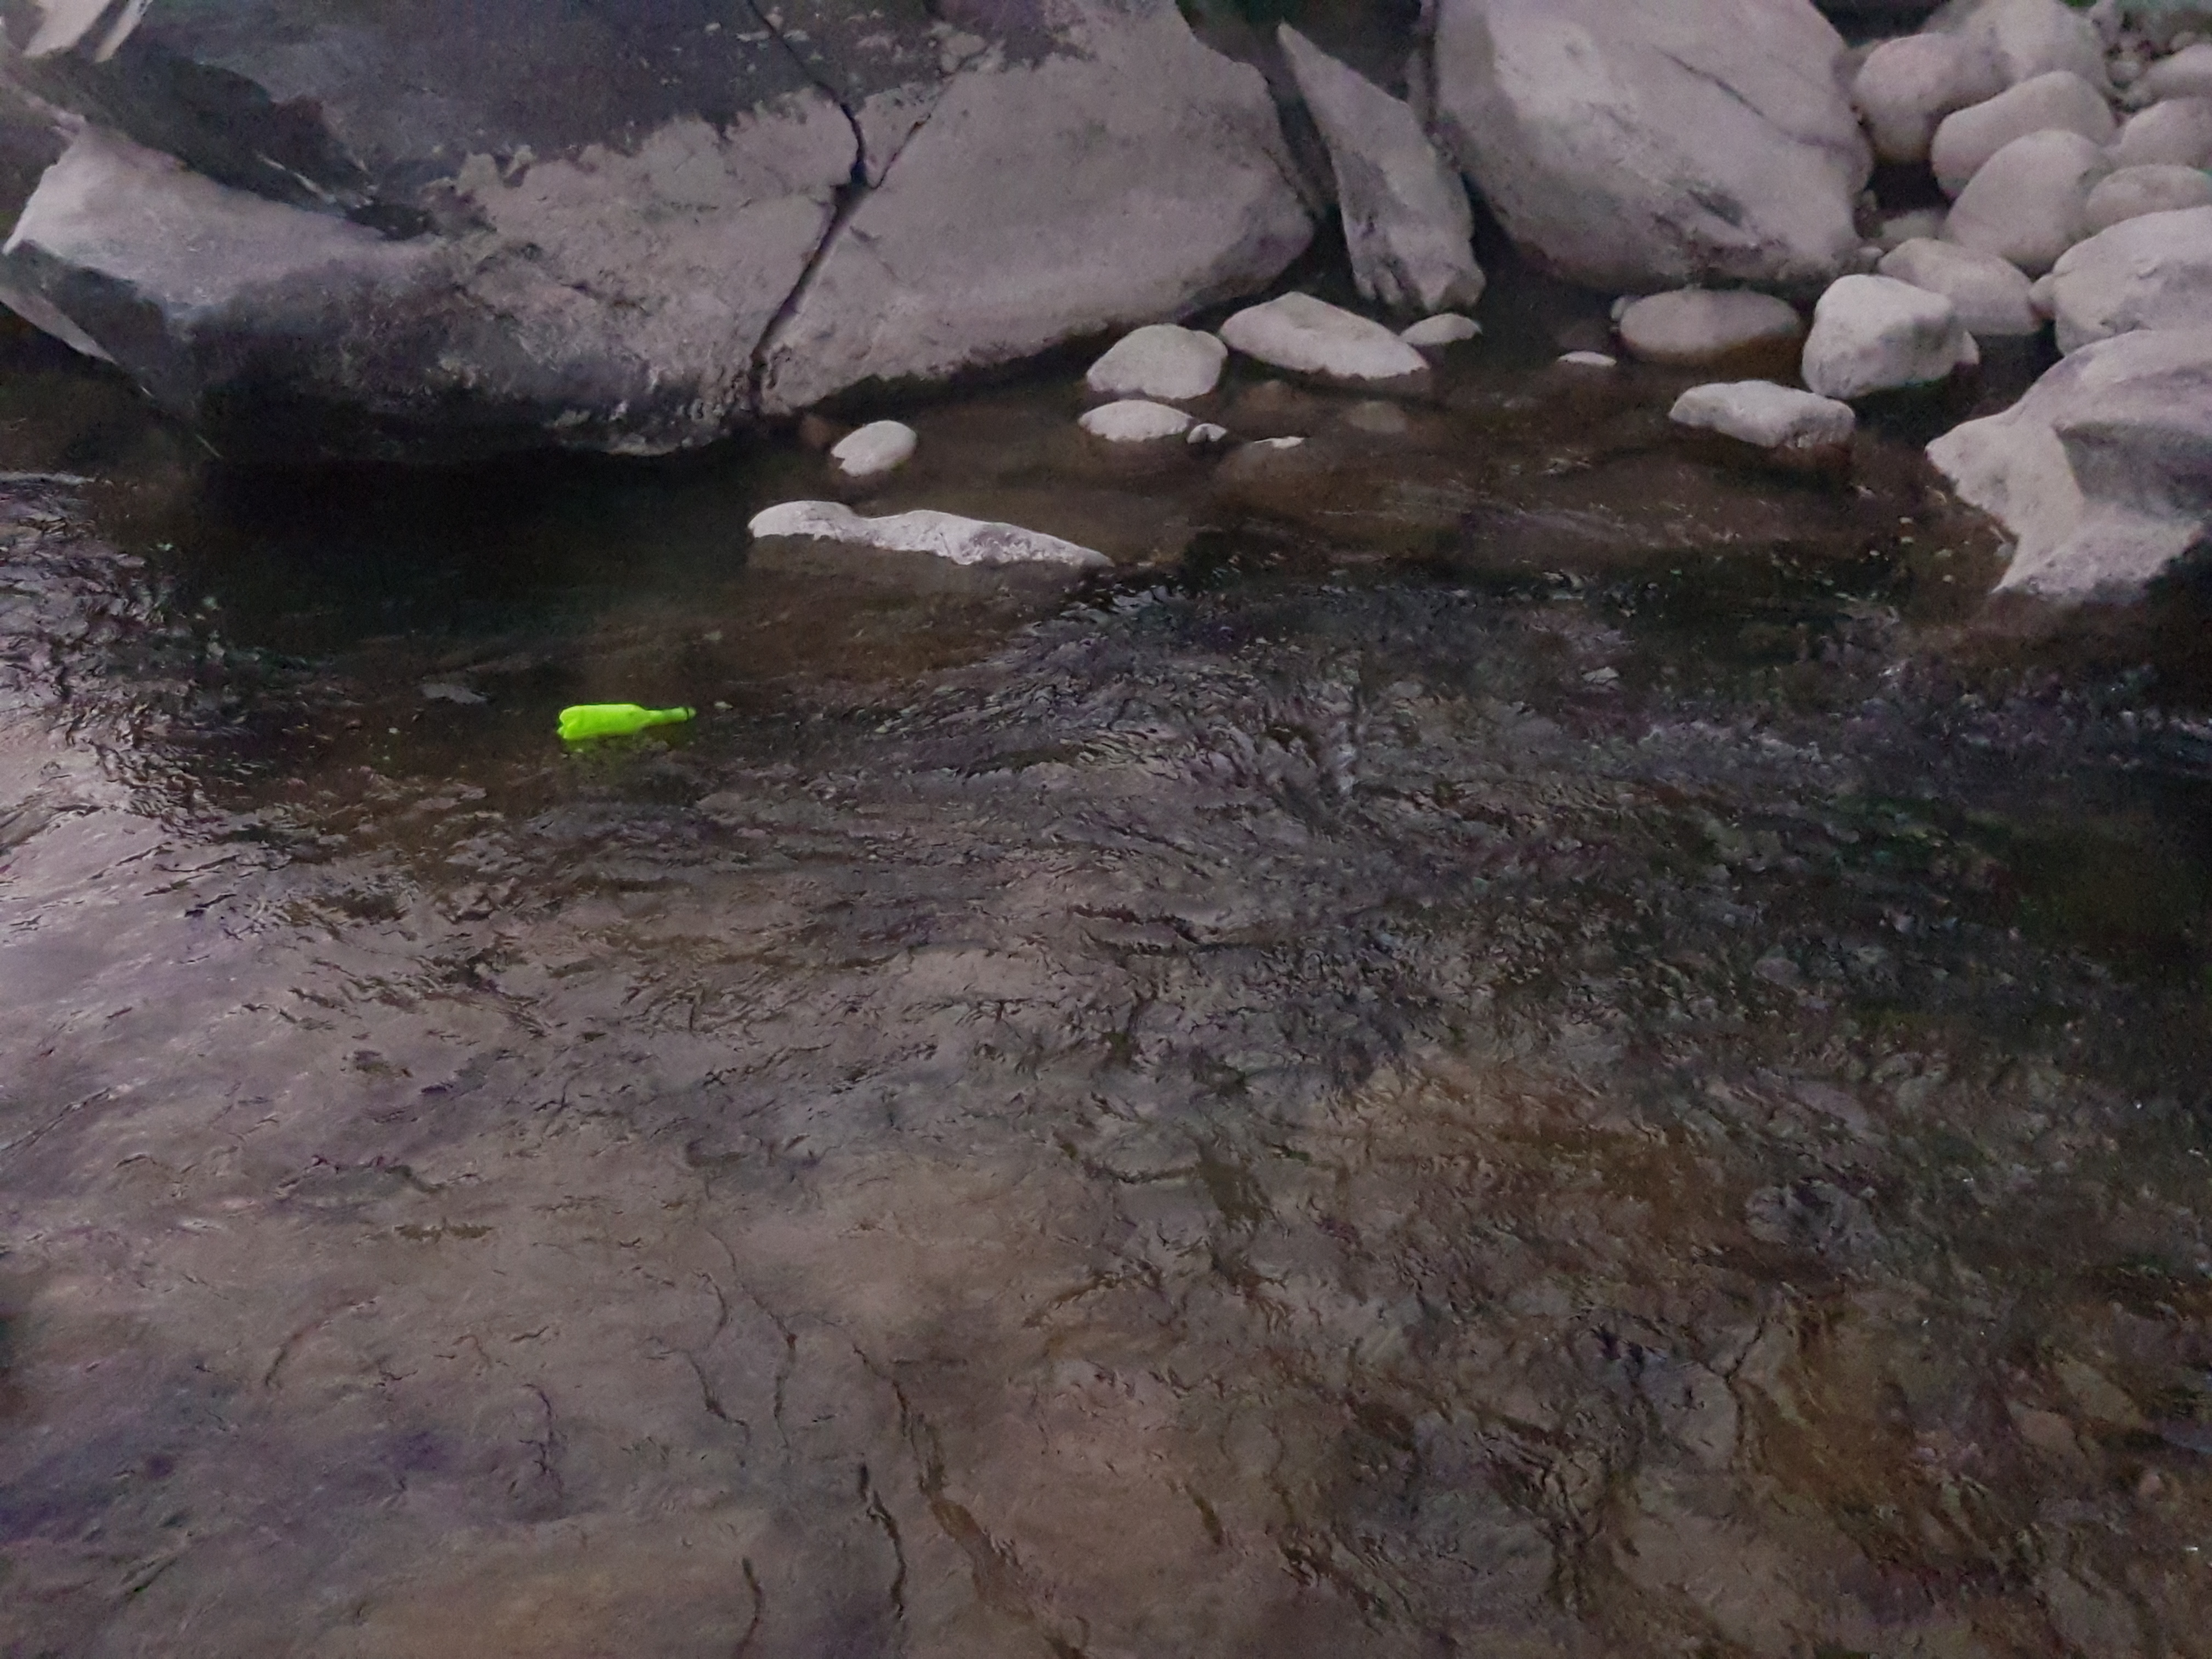Plastic Bottle: (556, 701, 693, 735)
